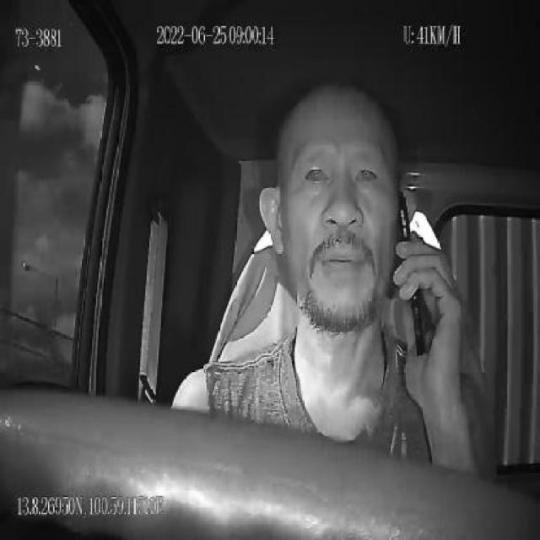phone: (398, 191, 426, 359)
